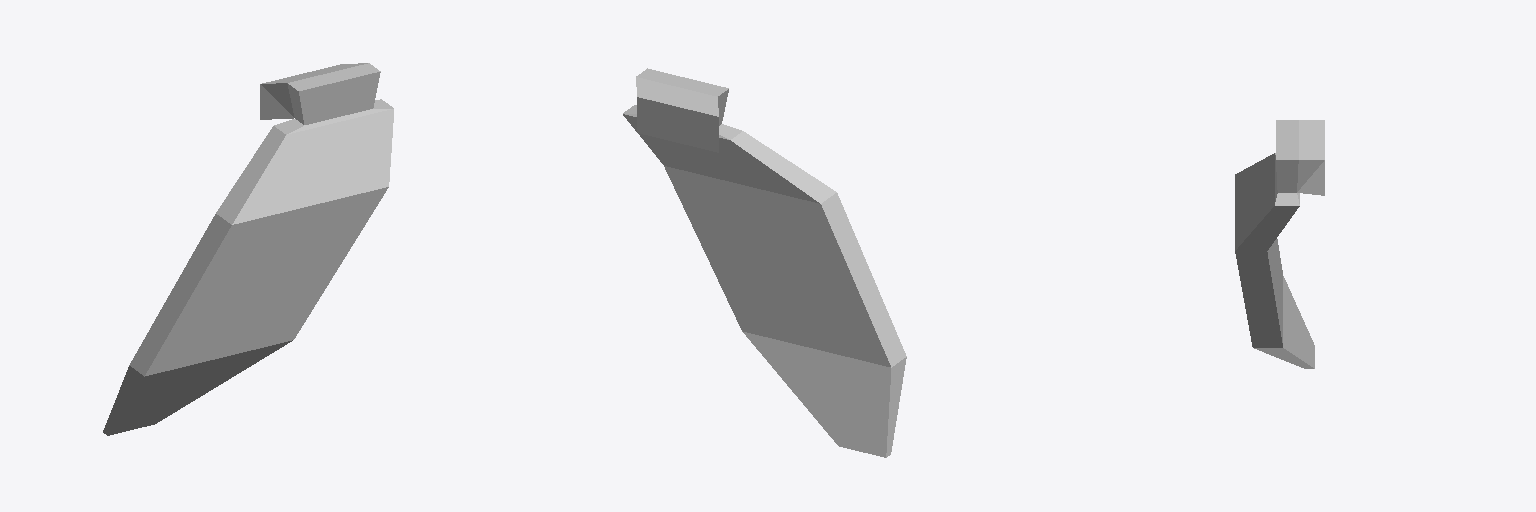
Rendered from bird_rArm.obj.
The picture shows the model from 3 angles: view 1: azimuth 30°, elevation 25°; view 2: azimuth 150°, elevation 25°; view 3: azimuth 270°, elevation 25°; orthographic projection.
Visible parts, largest first — view 1: Cube.002_Cube.004; view 2: Cube.002_Cube.004; view 3: Cube.002_Cube.004.
Part boxes in pixels (bbox=[...]): Cube.002_Cube.004: bbox=[103, 63, 393, 435]; Cube.002_Cube.004: bbox=[623, 68, 906, 457]; Cube.002_Cube.004: bbox=[1235, 120, 1324, 368].
Bounding box in the file's own units: 4.33 × 4.75 × 1.24.